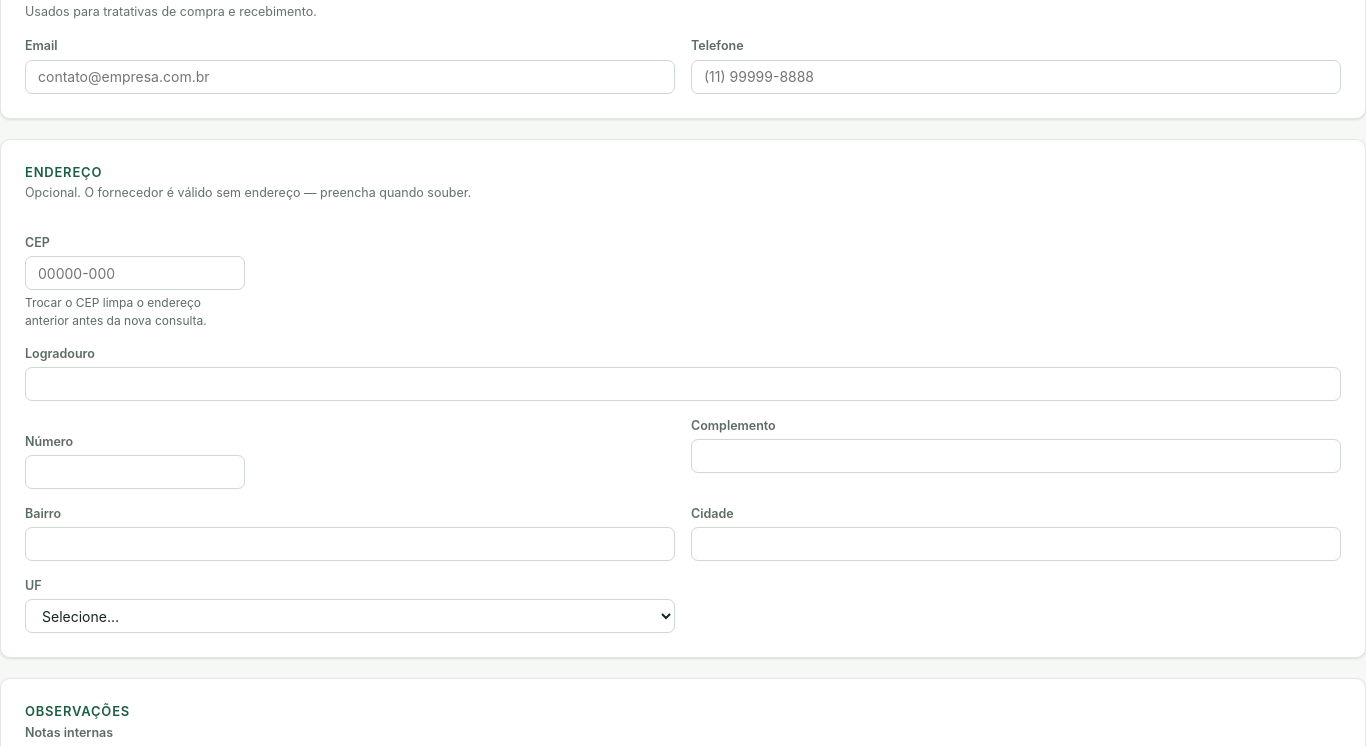
Test: Fornecedor novo — guarda de alterações não salvas › endereço digitado marca alteração pendente, e revertido volta a limpo
(page scrolled)
Type "Rua Vicente José de Almeida" into the field with id "supplier-street" at (683, 384), box [25,367,1341,401]
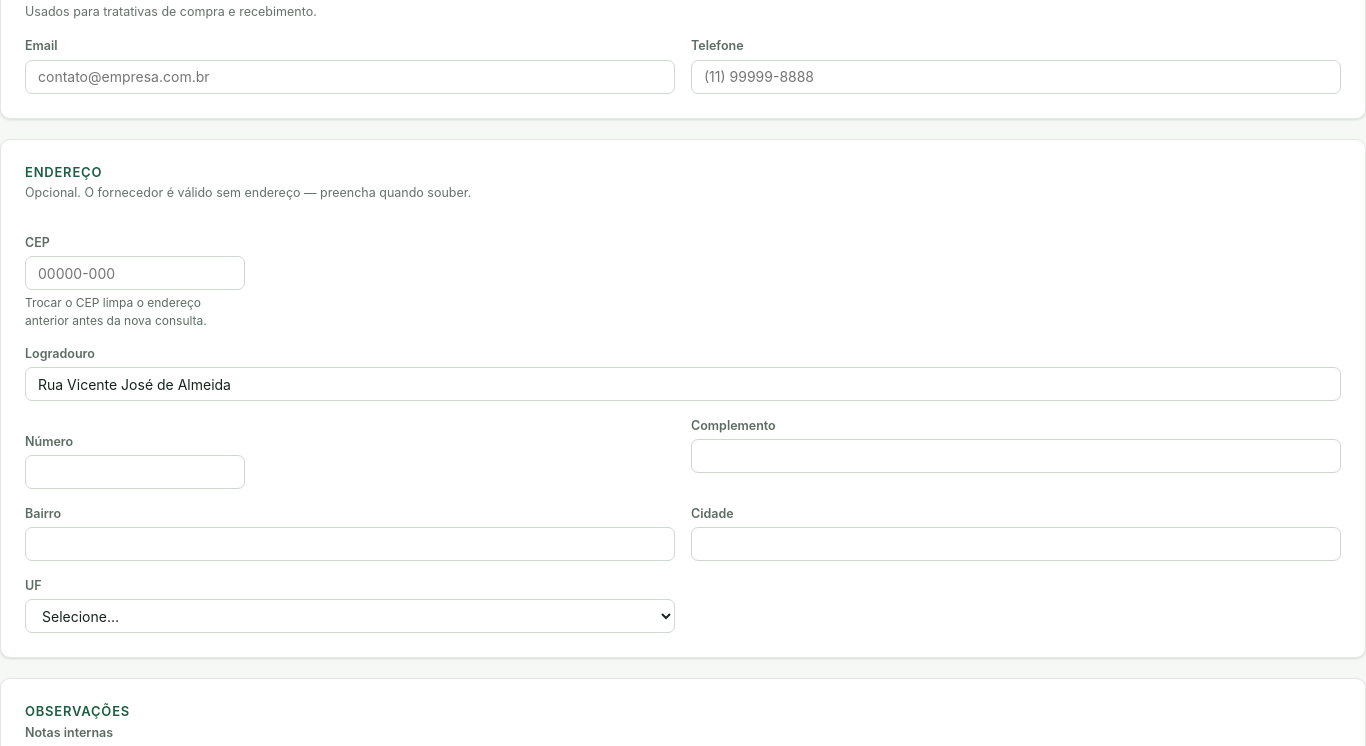
Clear the field with id "supplier-street" at (683, 384), box [25,367,1341,401]
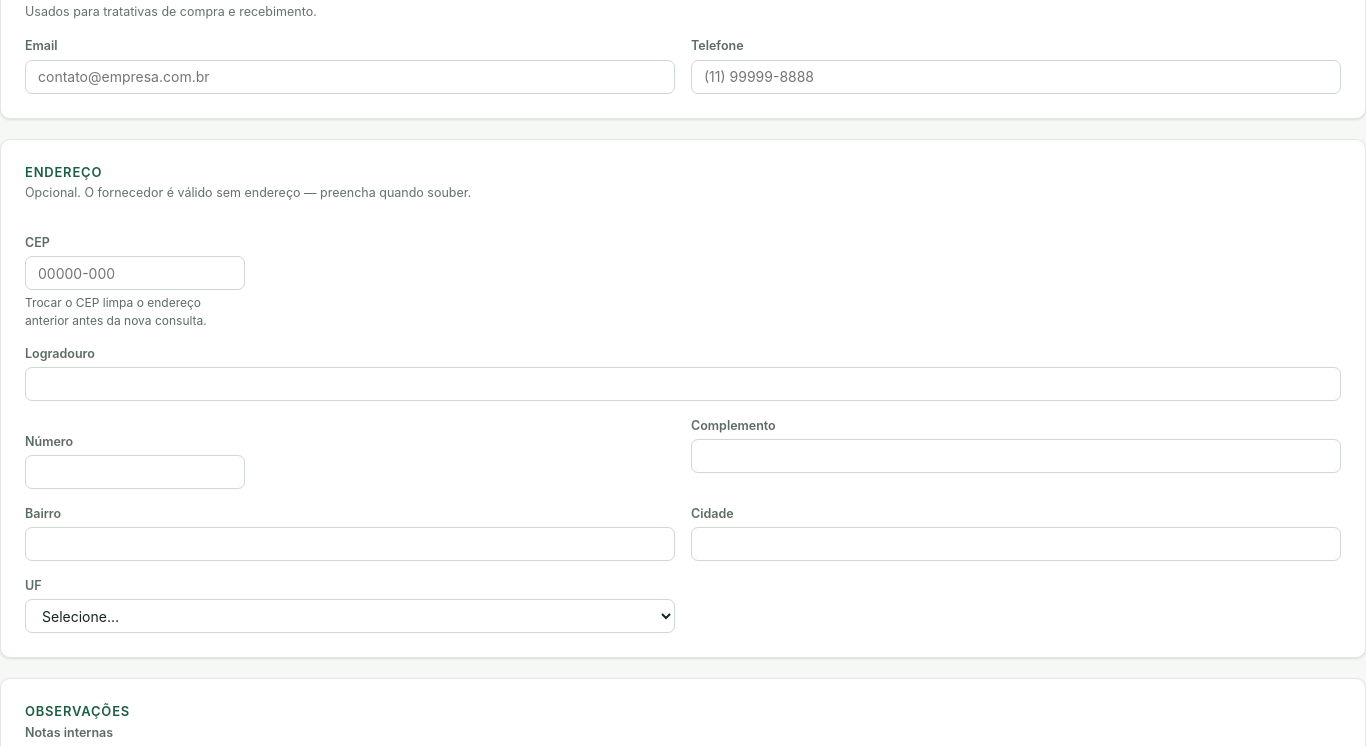
Type "São Paulo" into the field with id "supplier-city" at (1016, 544), box [691,527,1341,561]
(page scrolled)
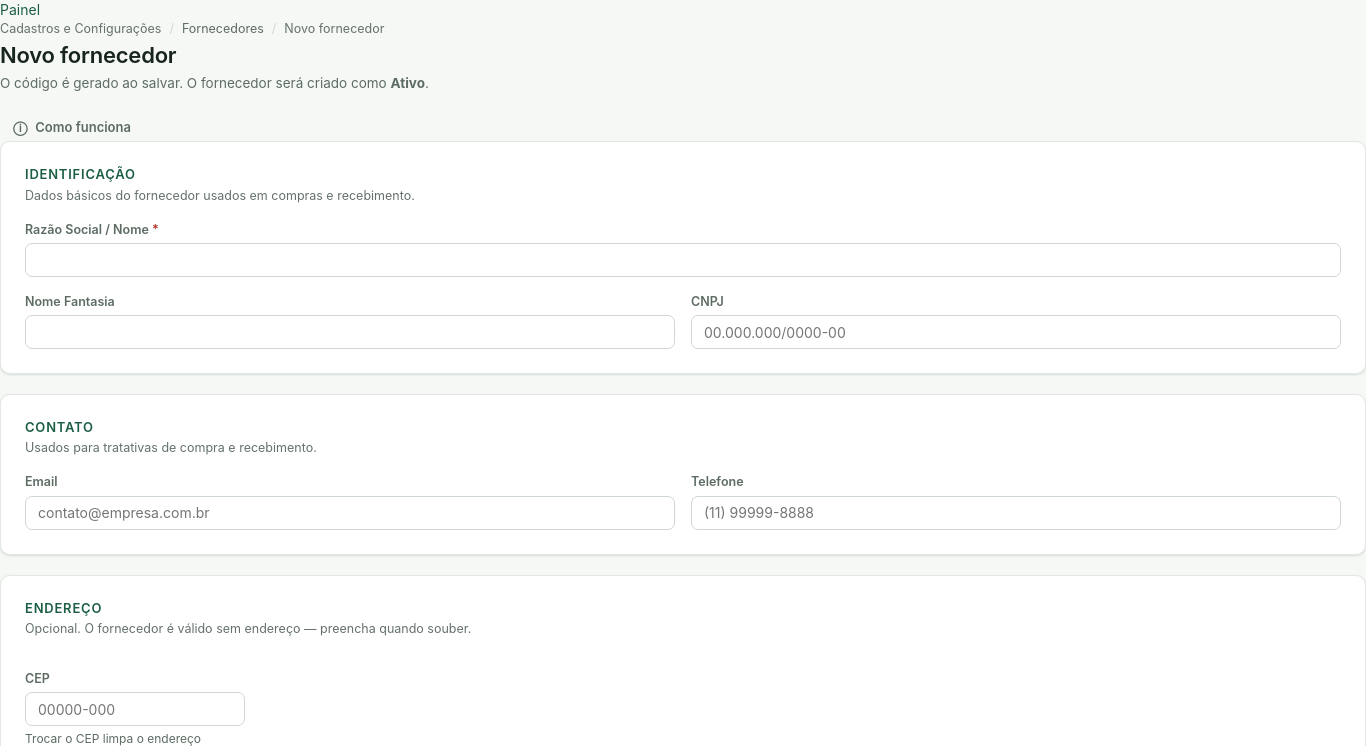
Click the link "Painel" at (20, 10), box [0,1,40,18]
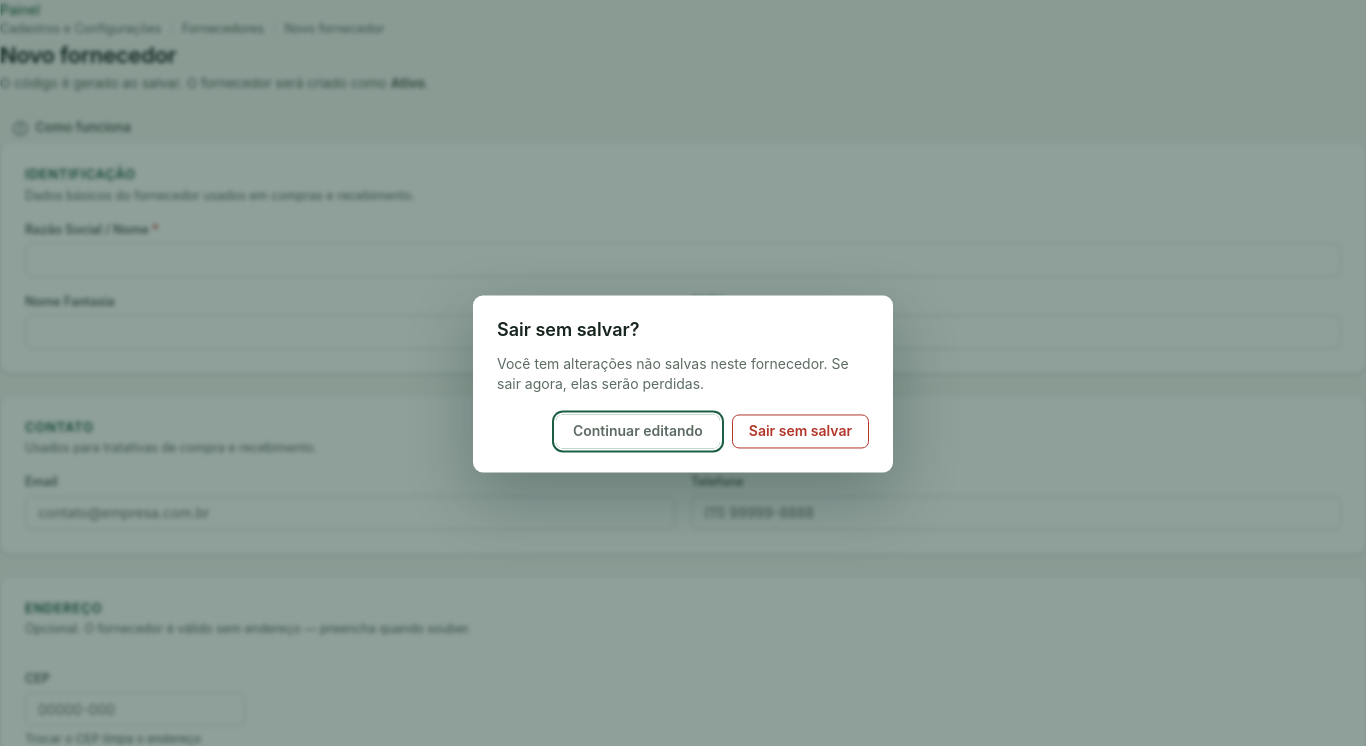
expect the heading "Sair sem salvar?" is shown: met, box [497,320,640,340]
